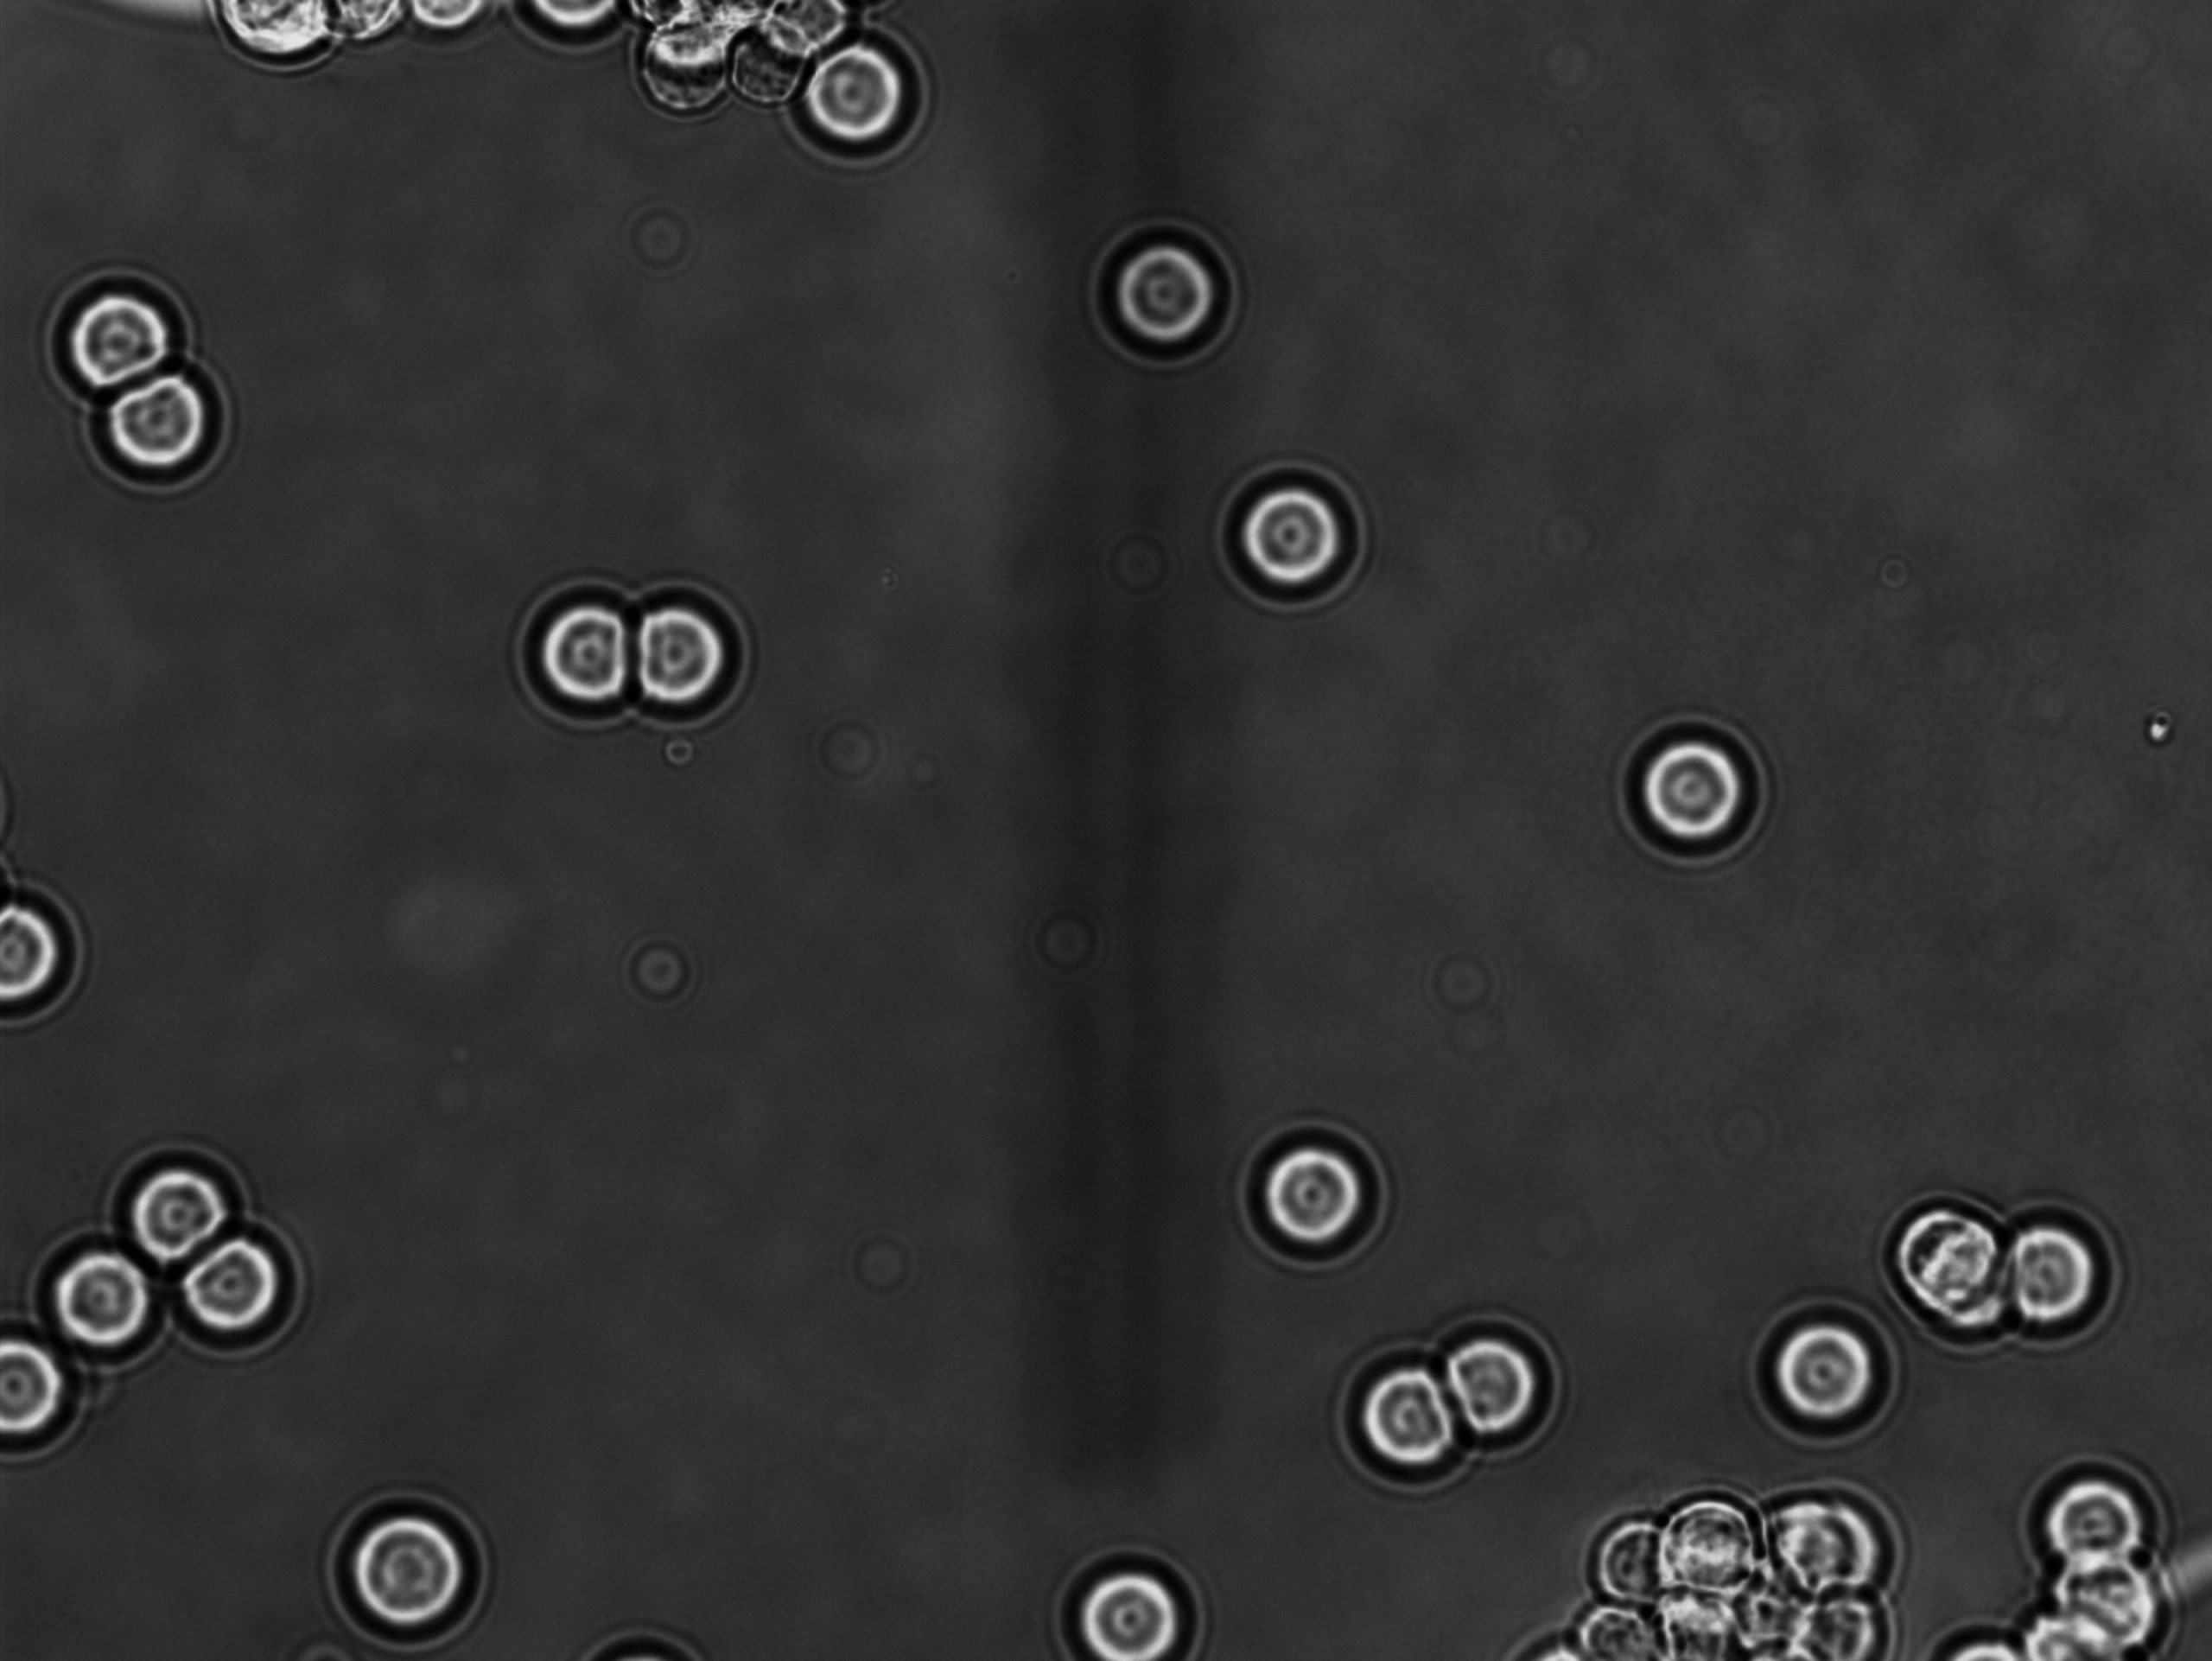depth:20: (307, 1485, 497, 1661), (1207, 440, 1392, 611), (91, 1113, 270, 1288), (508, 558, 680, 740), (1739, 1279, 1921, 1450), (1233, 1108, 1408, 1272), (604, 567, 769, 736), (1085, 206, 1249, 370), (1605, 710, 1772, 871), (1980, 1195, 2139, 1359), (31, 1218, 183, 1375), (89, 352, 249, 501), (159, 1214, 317, 1361), (47, 269, 201, 414), (783, 17, 928, 171), (1054, 1537, 1214, 1661)
